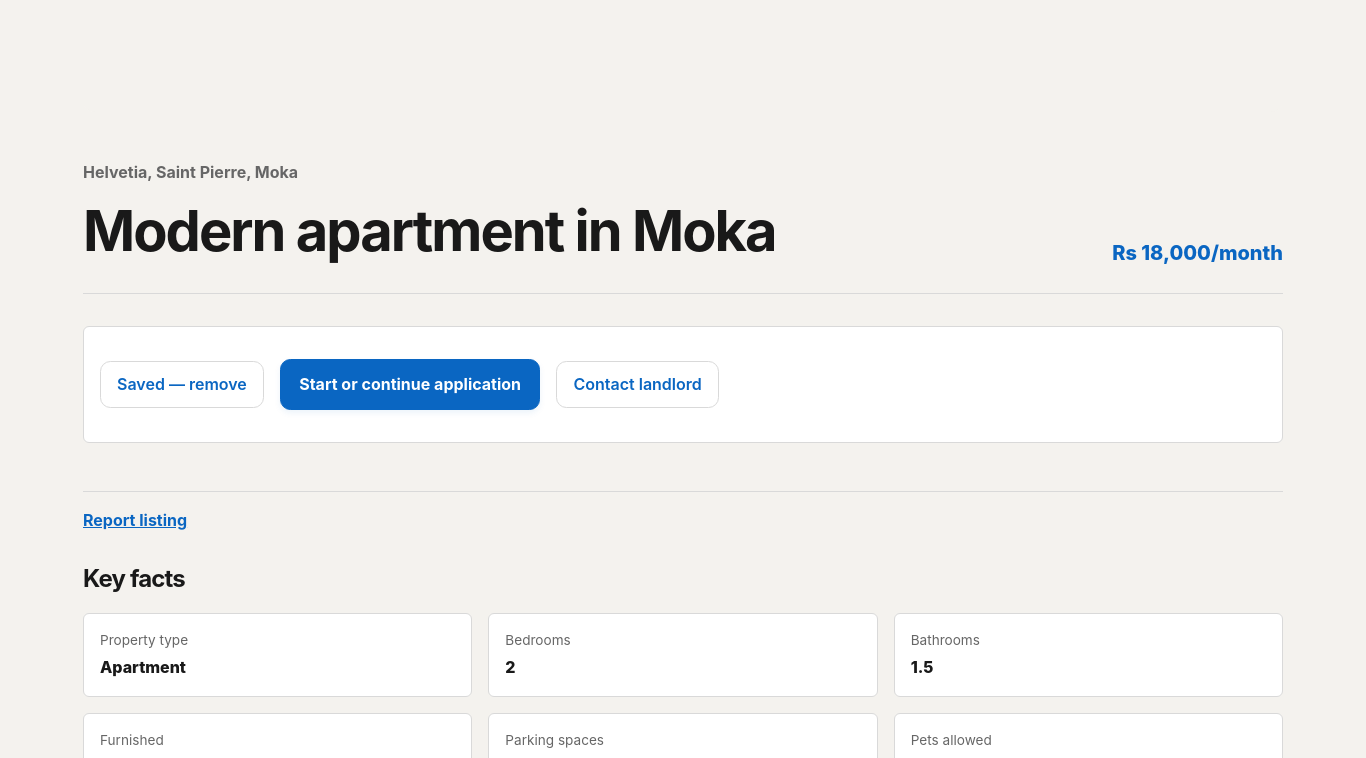
Scenario: public listing detail saved control › loads initial TENANT saved state and supports unsave then save
(page scrolled)
Click the button "Saved — remove": (182, 384) [100,361,264,408]
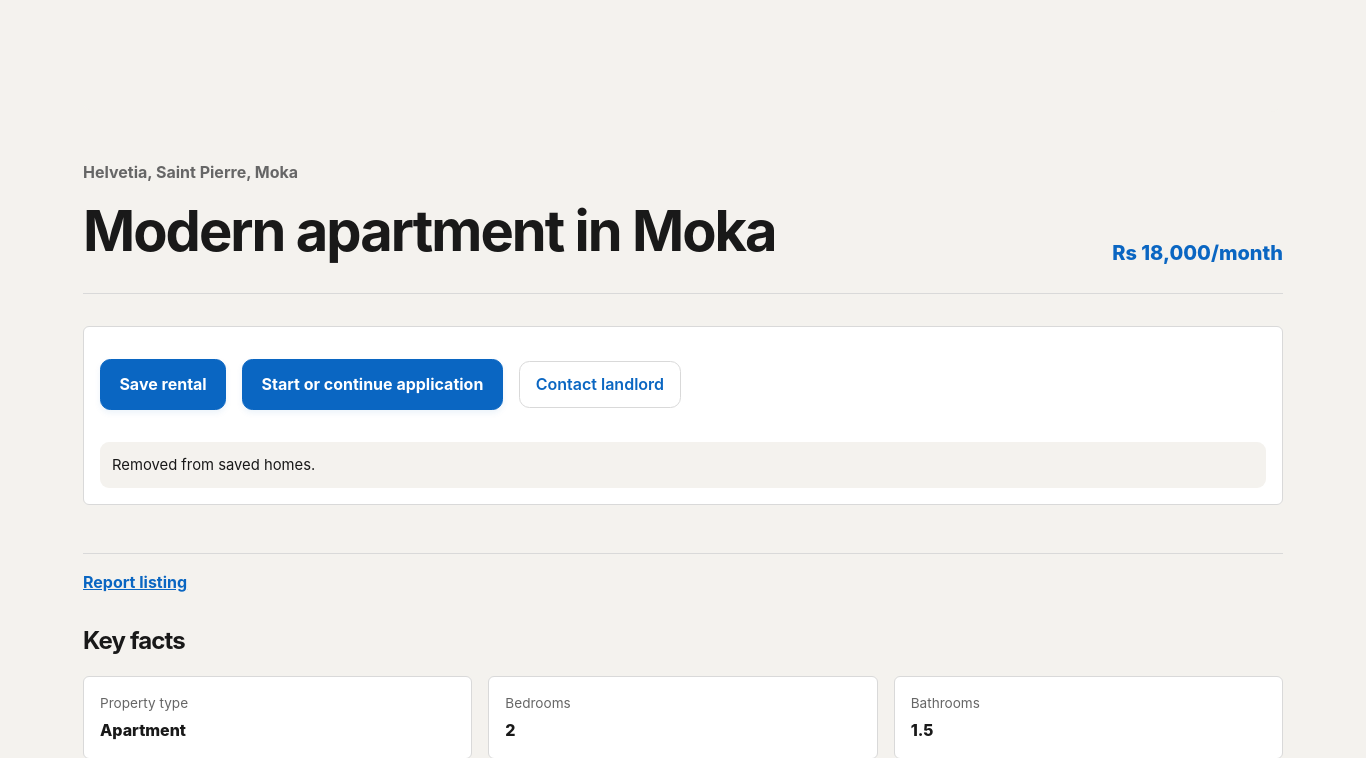
Expected: the text "Removed from saved homes." is shown, [100,442,1266,488]
Click the button "Save rental": (163, 384) [100,359,226,410]
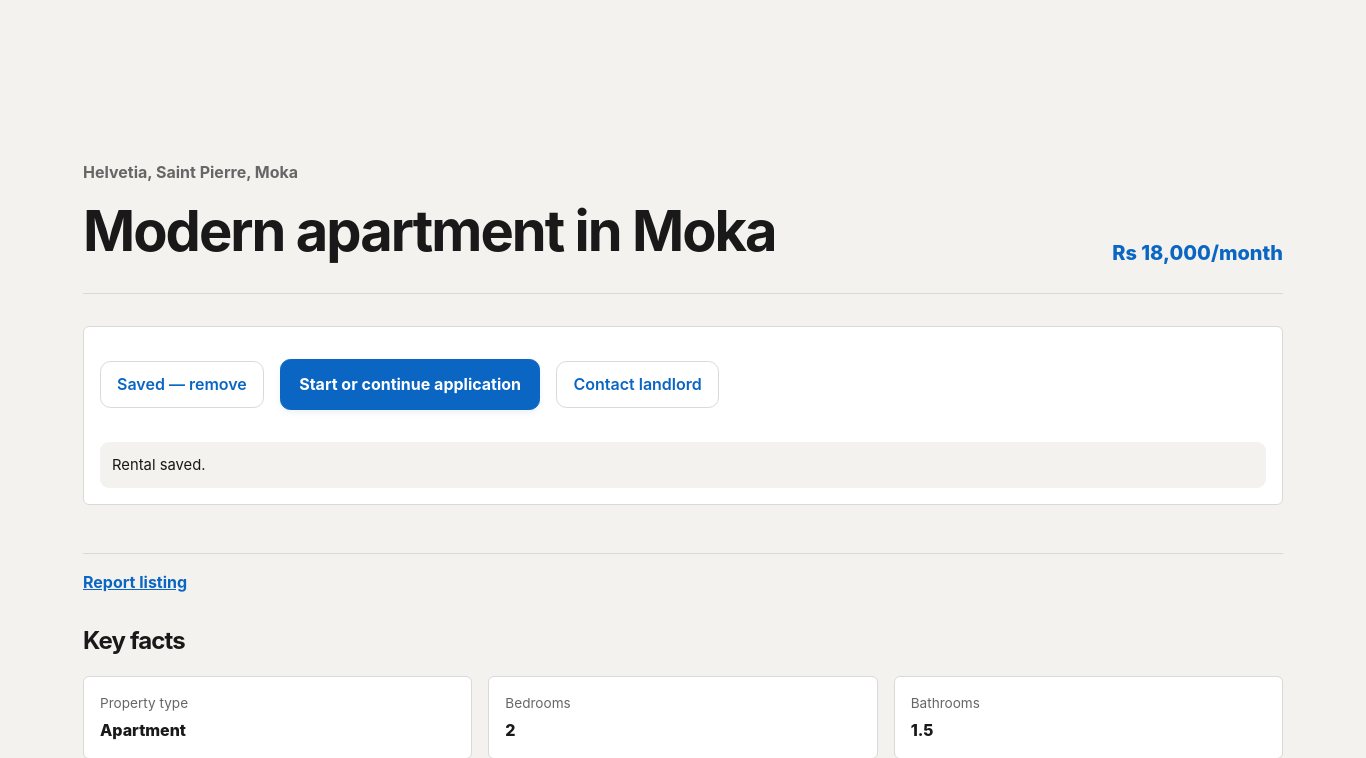
Expected: the text "Rental saved." is shown, [100,442,1266,488]
Expected: the button "Saved — remove" is shown, [100,361,264,408]
